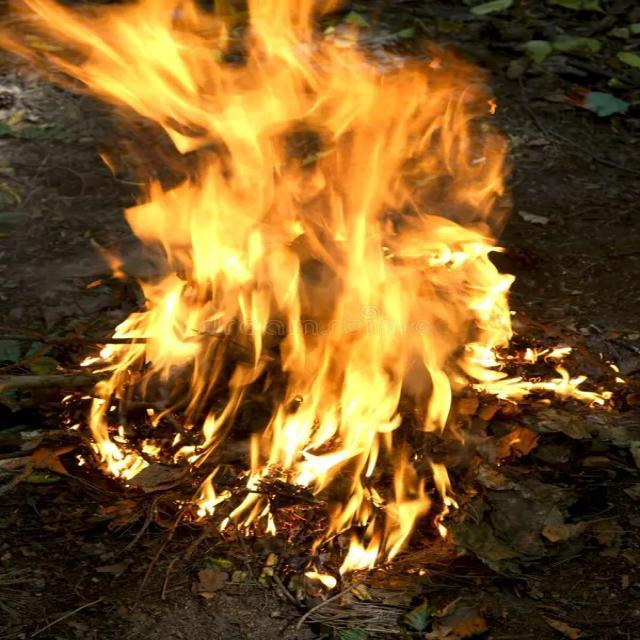Fire: (20, 0, 623, 565)
